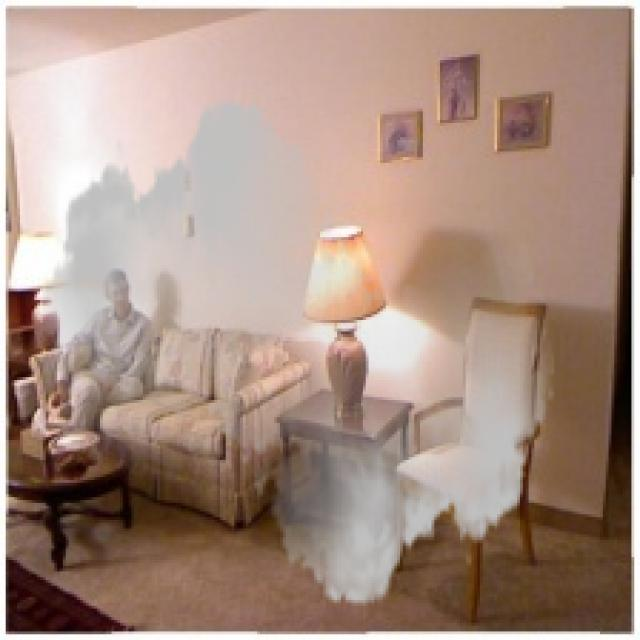smoke: (34, 83, 554, 623)
